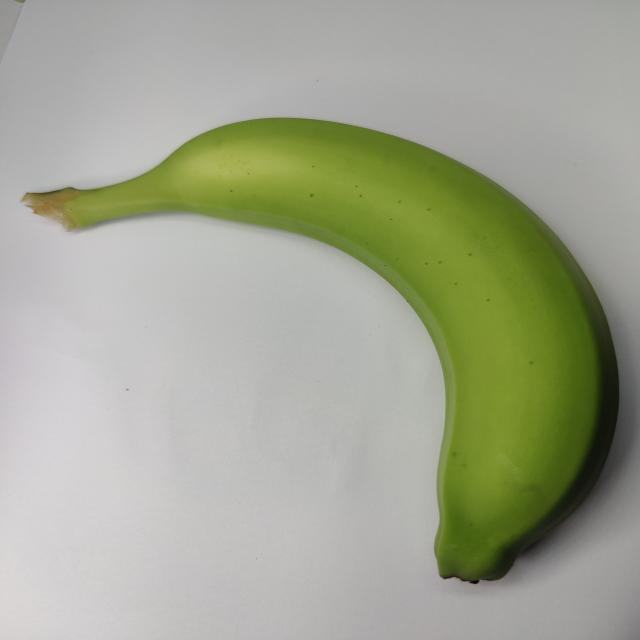raw: (26, 93, 632, 593)
